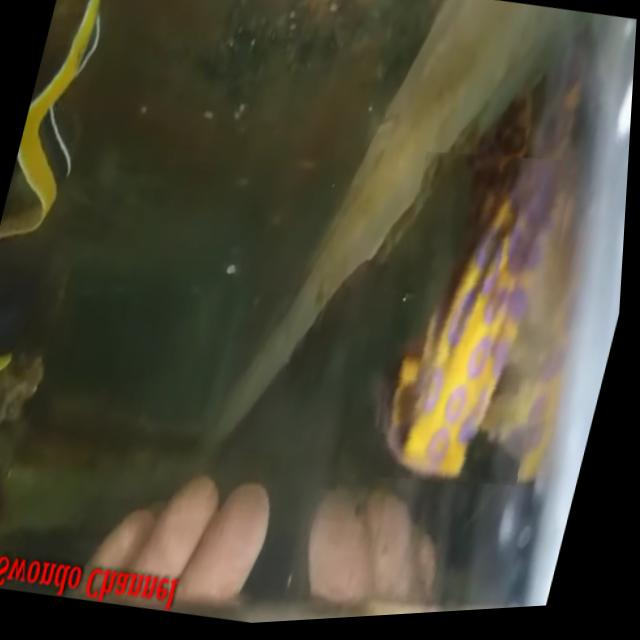blue_ringed_octopus: (356, 141, 594, 506)
